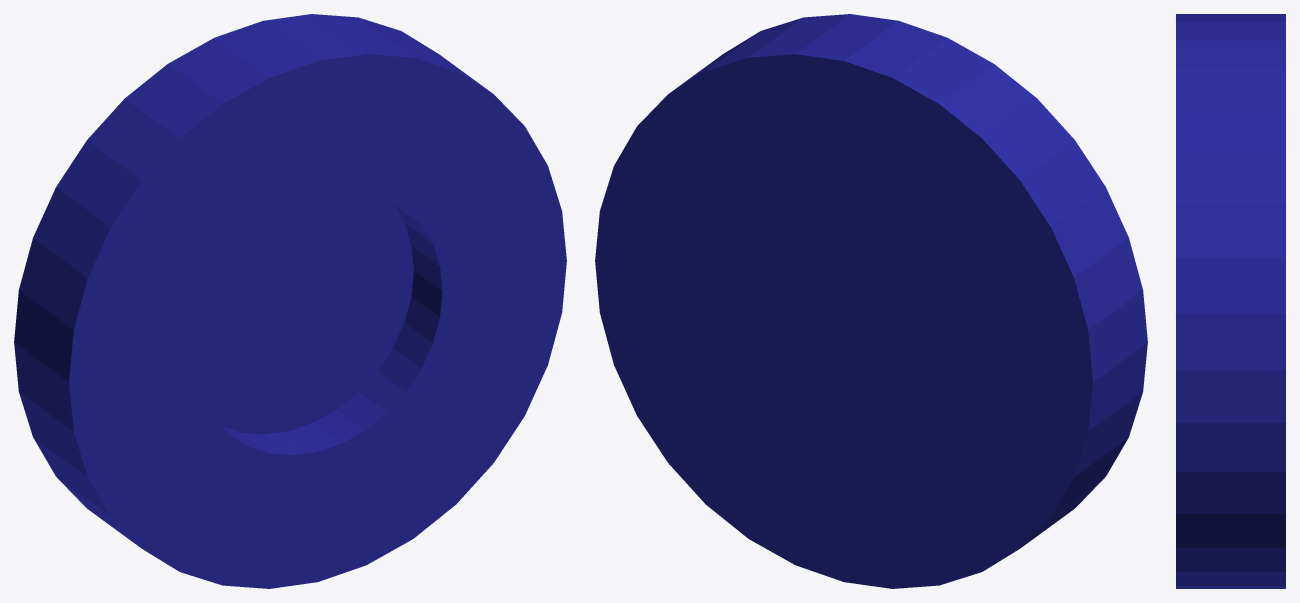
The model's file is sockel.obj.
The picture shows the model from 3 angles, left to right: view 1: azimuth 30°, elevation 25°; view 2: azimuth 150°, elevation 25°; view 3: azimuth 270°, elevation 25°; orthographic projection.
Visible parts, largest first — view 1: Cylinder.002_Mesh.014; view 2: Cylinder.002_Mesh.014; view 3: Cylinder.002_Mesh.014.
Part boxes in pixels (bbox=[...]): Cylinder.002_Mesh.014: bbox=[14, 14, 566, 588]; Cylinder.002_Mesh.014: bbox=[595, 14, 1147, 588]; Cylinder.002_Mesh.014: bbox=[1176, 14, 1285, 588].
Size of the model in its own units: 5.65 by 5.65 by 1.08.
